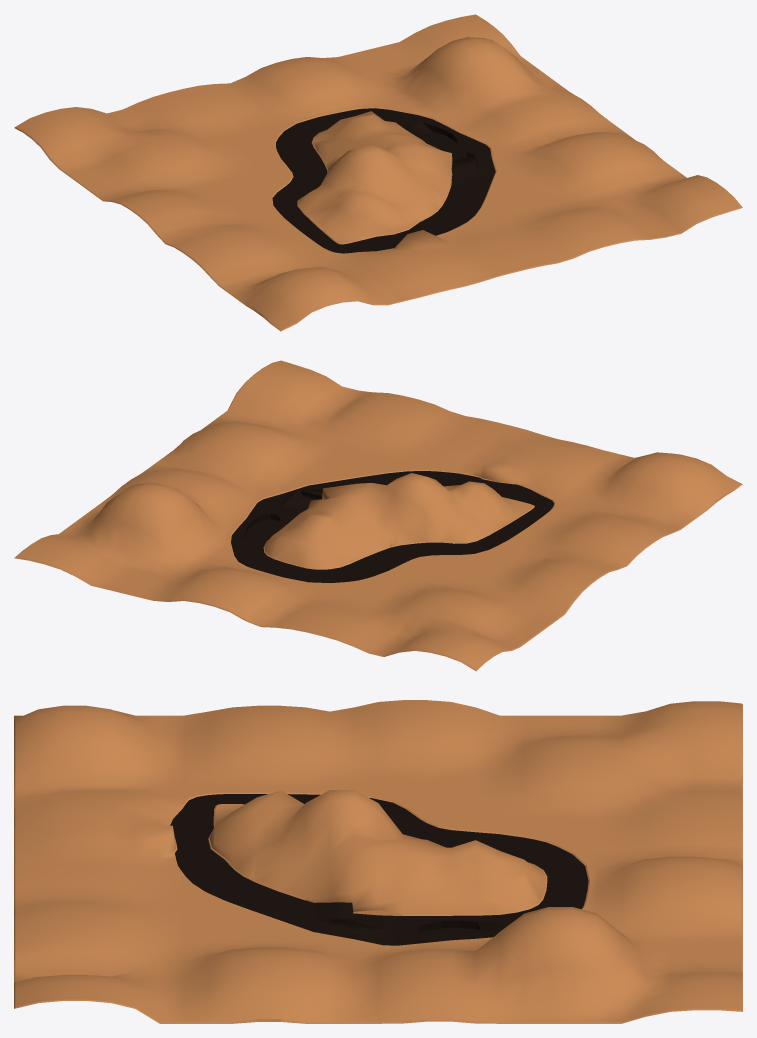
The model's file is desert.FBX.
3 renders of one model, top to bottom at view 1: azimuth 30°, elevation 25°; view 2: azimuth 150°, elevation 25°; view 3: azimuth 270°, elevation 25°, orthographic. The views are drawn at different scales.
Parts seen in each view (by area): view 1: Plane031, Plane030; view 2: Plane031, Plane030; view 3: Plane031, Plane030.
Part boxes in pixels (left/top/right/bottom): Plane031: left=14, top=14, right=742, bottom=331; Plane030: left=272, top=108, right=495, bottom=253; Plane031: left=14, top=360, right=742, bottom=671; Plane030: left=231, top=471, right=554, bottom=582; Plane031: left=14, top=700, right=742, bottom=1023; Plane030: left=170, top=794, right=588, bottom=945.
Size of the model in its own units: 59055 by 6195 by 59055.
